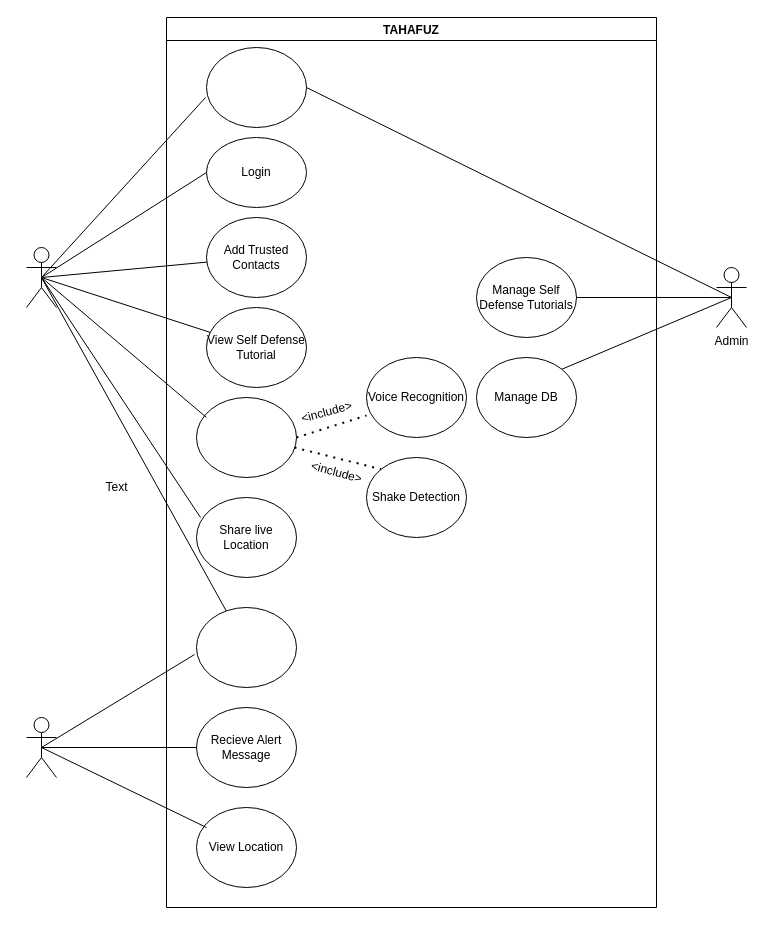
This 766x925 diagram has some shape labels left out. Each missing label, with the centre of its shape:
"Generate Alert" belongs at (x=246, y=437).
"Guardian" belongs at (x=41, y=747).
"Registeration" belongs at (x=256, y=87).
"share Audio Recording" belongs at (x=246, y=647).
"User" belongs at (x=41, y=277).
